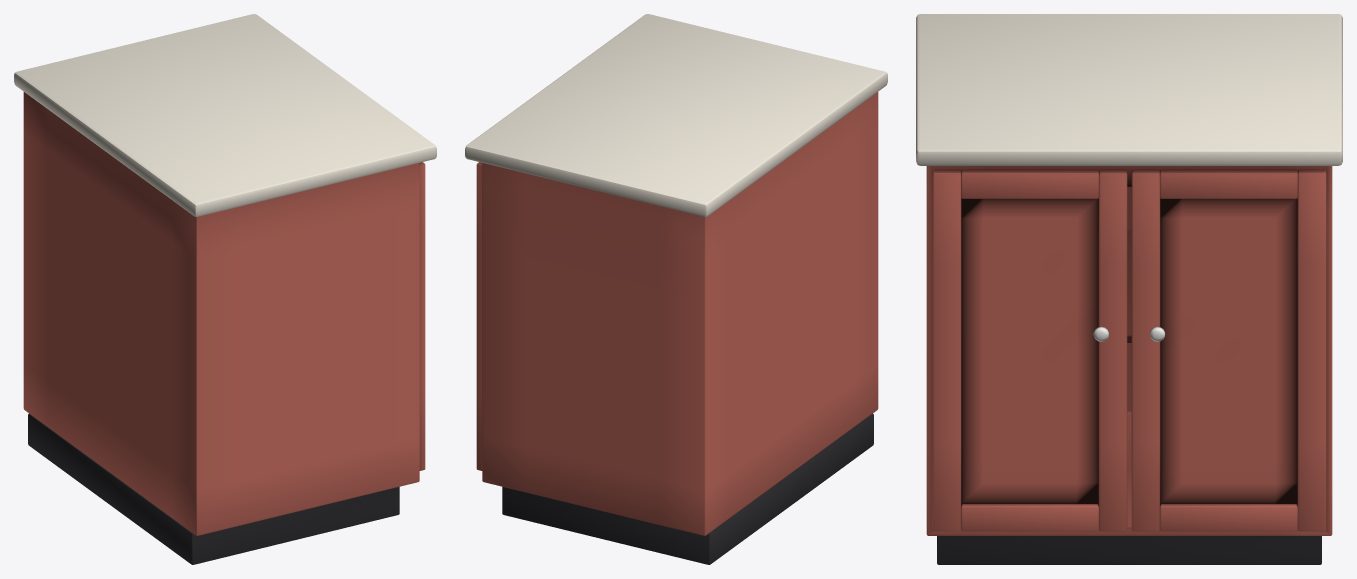
The model's file is nd_cabinet.glb.
3 views of the same model, side by side, from view 1: azimuth 30°, elevation 25°; view 2: azimuth 150°, elevation 25°; view 3: azimuth 270°, elevation 25° (orthographic). The views are drawn at different scales.
Visible parts, largest first — view 1: PART, P_door_a; view 2: PART, P_door_b; view 3: PART, P_door_a, P_door_b.
Part boxes in pixels (x1,y1,x2,y2): PART: [14, 14, 436, 564]; P_door_a: [419, 162, 425, 470]; PART: [465, 14, 887, 564]; P_door_b: [476, 162, 482, 470]; PART: [916, 14, 1342, 564]; P_door_a: [932, 169, 1127, 531]; P_door_b: [1131, 169, 1326, 531].
Size of the model in its own units: 0.6417 by 0.9145 by 0.82.
